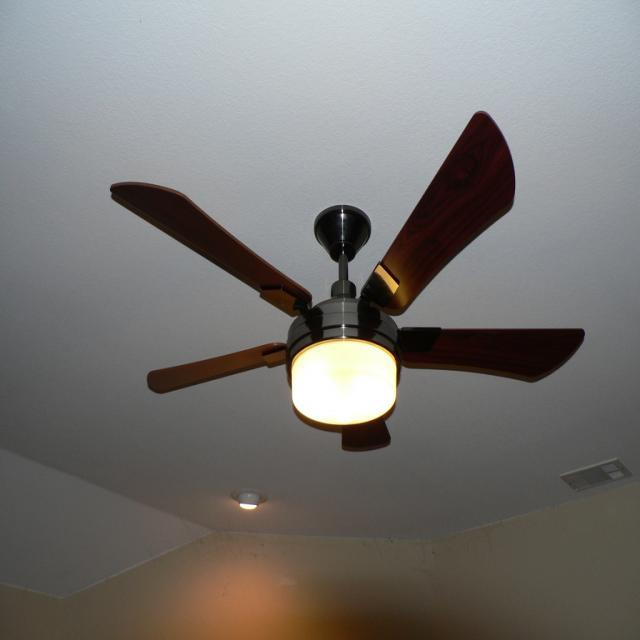fan_off: (108, 109, 585, 454)
